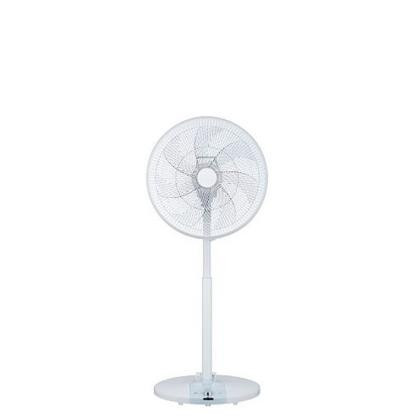fan: (141, 109, 269, 411)
